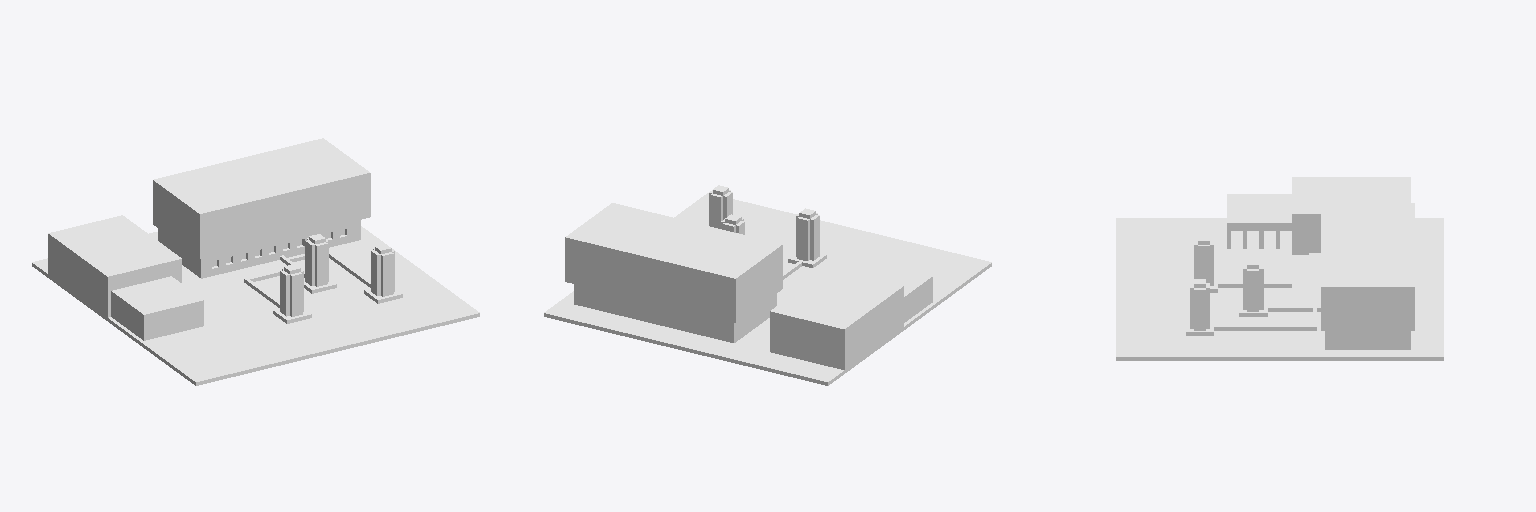
File: gasDistributionCenter.obj
3 renders of one model, left to right at view 1: azimuth 30°, elevation 25°; view 2: azimuth 150°, elevation 25°; view 3: azimuth 270°, elevation 25°, orthographic.
Parts seen in each view (by area): view 1: object 1; view 2: object 1; view 3: object 1.
Part boxes in pixels (bbox=[...]): object 1: bbox=[32, 138, 479, 385]; object 1: bbox=[544, 185, 991, 385]; object 1: bbox=[1116, 177, 1443, 360].
Size of the model in its own units: 8 by 1.9 by 8.